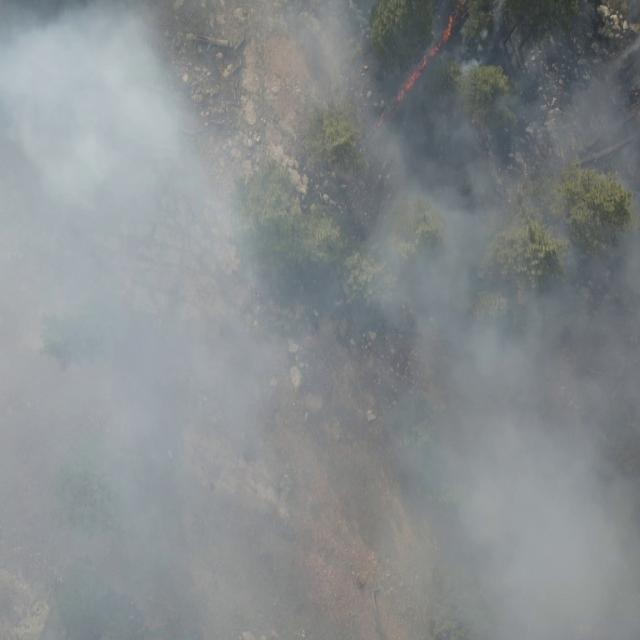fire: (396, 13, 456, 105), (374, 109, 392, 132)
smoke: (0, 0, 640, 640)
